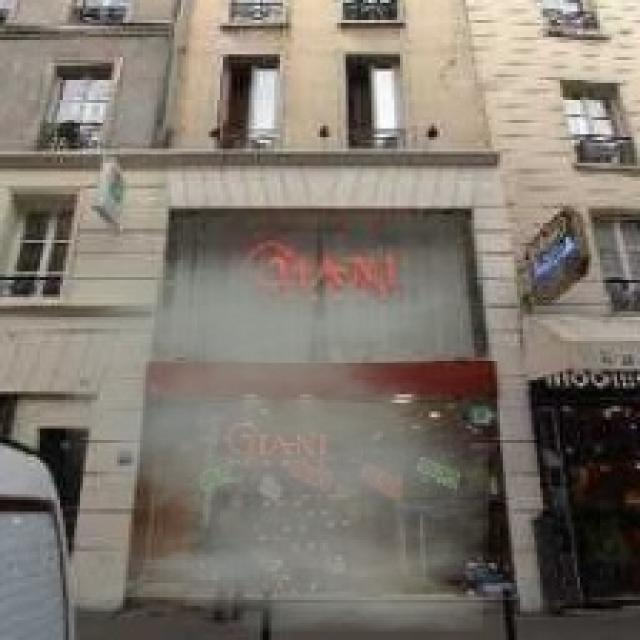smoke: (66, 260, 488, 631)
